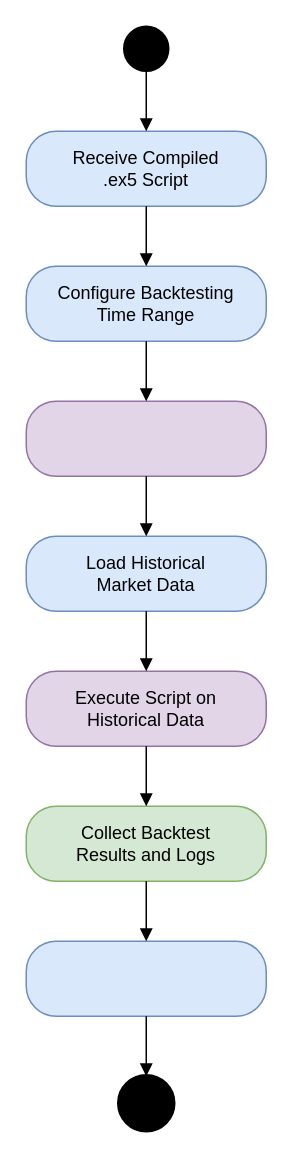
Some shapes in this 293 by 1158 pixel diagram are drawn without their labels. Here are the shapes that lost their labels. From the top down, the box of each, then its label:
(25, 400, 266, 476): Spin Up Docker Container
(25, 940, 266, 1016): Teardown Docker Container
